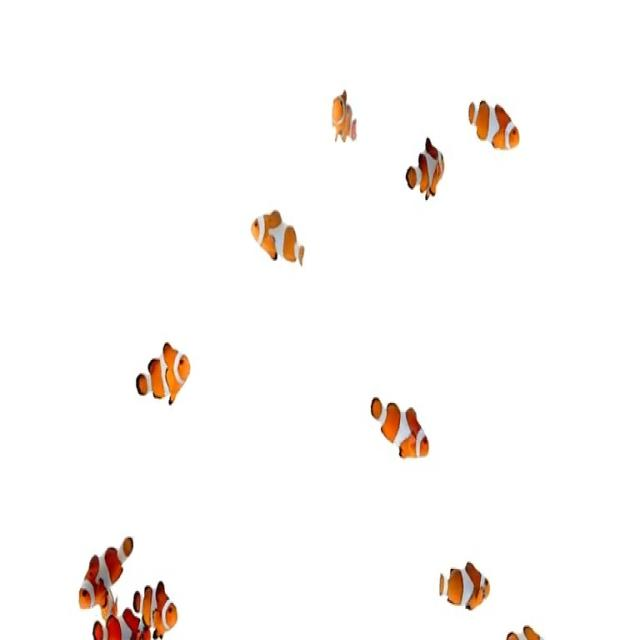fish: (64, 530, 135, 614), (371, 385, 436, 465), (131, 336, 193, 414), (429, 541, 492, 611), (252, 199, 312, 270), (464, 89, 522, 159), (402, 130, 448, 213), (126, 572, 188, 632), (329, 78, 363, 158), (505, 624, 544, 638)
